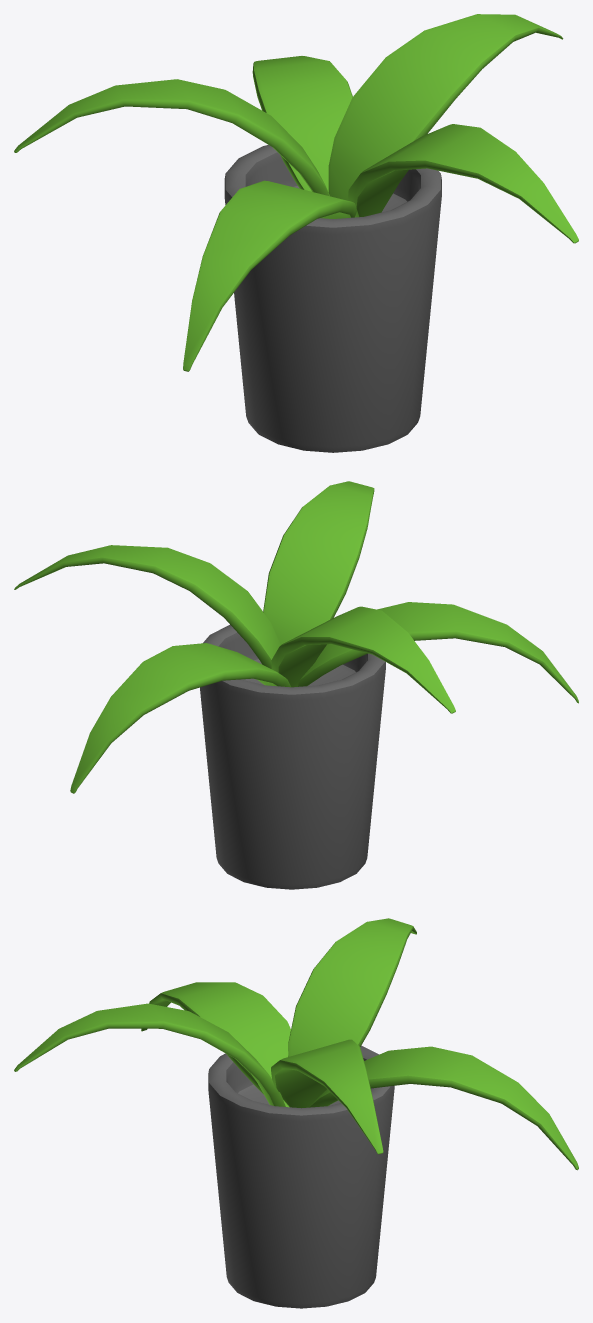
The model's file is SM_plant_room_02.fbx.
The picture shows the model from 3 angles, top to bottom: view 1: azimuth 30°, elevation 25°; view 2: azimuth 150°, elevation 25°; view 3: azimuth 270°, elevation 25°; orthographic projection. The views are drawn at different scales.
Parts seen in each view (by area): view 1: Cylinder043; view 2: Cylinder043; view 3: Cylinder043.
Part boxes in pixels (left/top/right/bottom): Cylinder043: left=14, top=14, right=578, bottom=452; Cylinder043: left=14, top=481, right=578, bottom=889; Cylinder043: left=14, top=918, right=578, bottom=1308.
Bounding box in the file's own units: 33.18 × 19.98 × 35.81.
